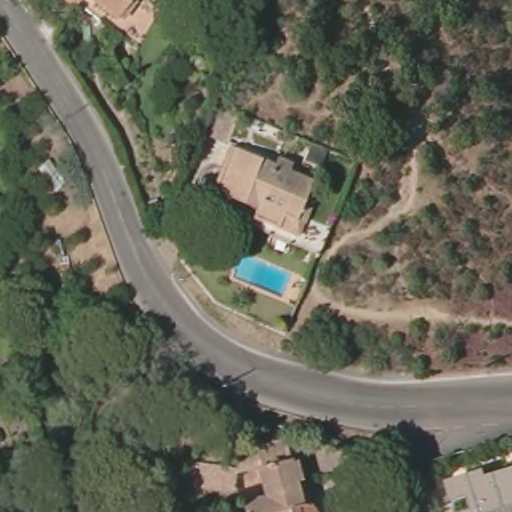pool: (230, 252, 294, 301)
